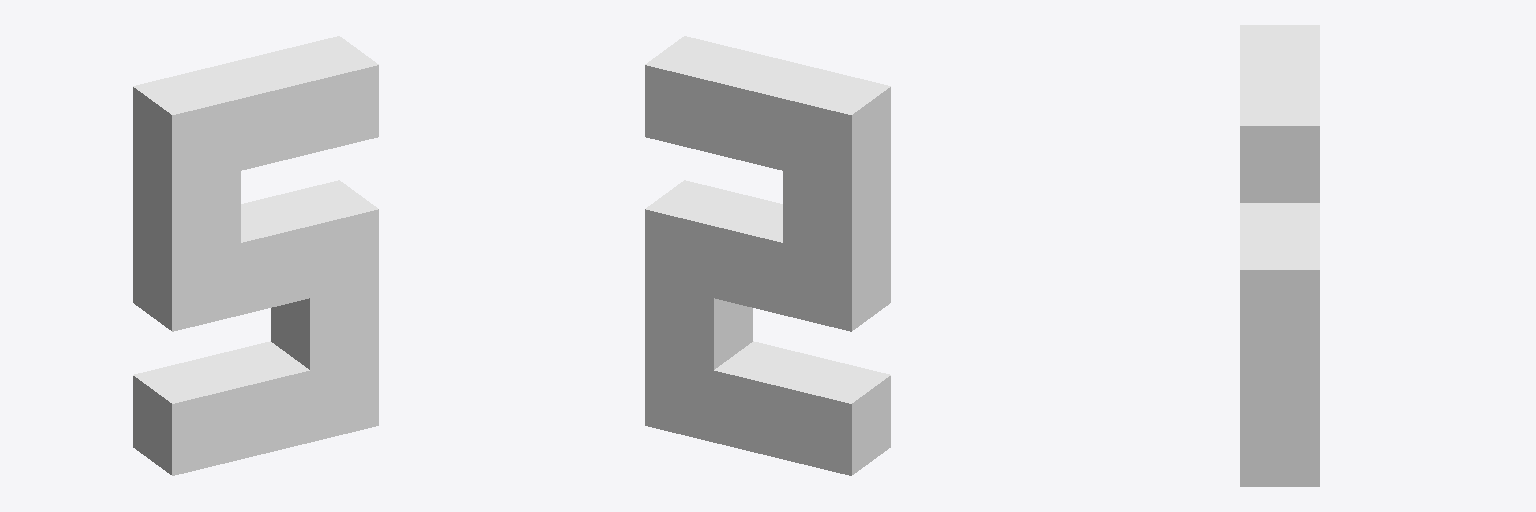
File: digit_5_r.obj
3 views of the same model, side by side, from view 1: azimuth 30°, elevation 25°; view 2: azimuth 150°, elevation 25°; view 3: azimuth 270°, elevation 25° (orthographic).
Visible parts, largest first — view 1: object 1; view 2: object 1; view 3: object 1.
Part boxes in pixels (x1,y1,x2,y2): object 1: (133, 36, 378, 475); object 1: (645, 36, 890, 475); object 1: (1240, 25, 1319, 486).
Bounding box in the file's own units: 0.6 × 1 × 0.2.